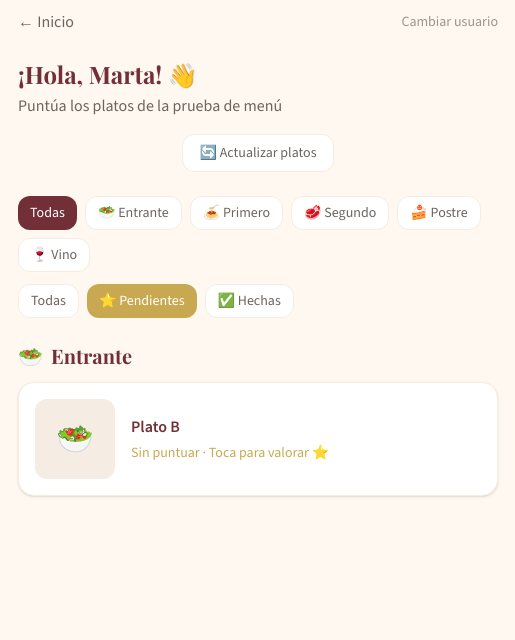
Scenario: GuestDashboard › shows review status filter buttons
This screenshot has width=515, height=640.
Expected: the text "Plato B" is shown, x1=131 y1=416 x2=180 y2=437
# Switch to "Hechas" filter (has ✅ prefix)
Click the button "✅ Hechas": point(249, 301) x1=204 y1=284 x2=294 y2=318
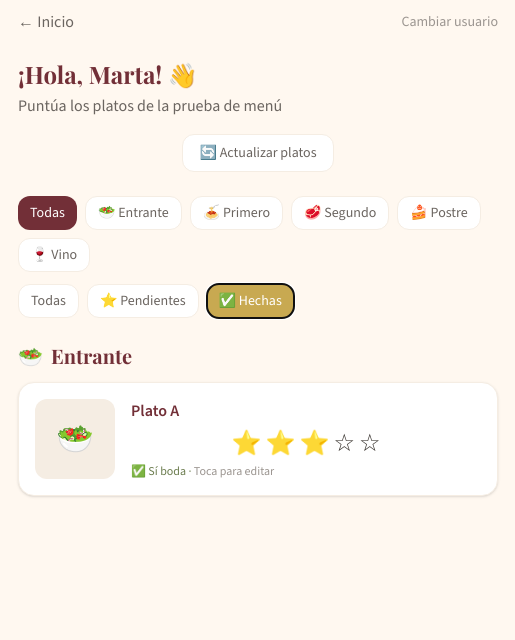
Expected: the text "Plato A" is shown, x1=131 y1=400 x2=179 y2=421
Expected: the button "Plato B" is gone
Click the 2nd button "Todas": point(48, 301) x1=18 y1=284 x2=79 y2=318
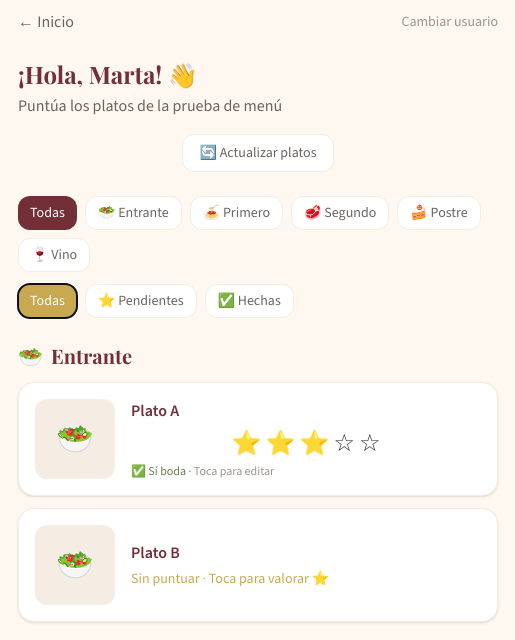
Expected: the text "Plato A" is shown, x1=131 y1=400 x2=179 y2=421
Expected: the text "Plato B" is shown, x1=131 y1=542 x2=180 y2=563
